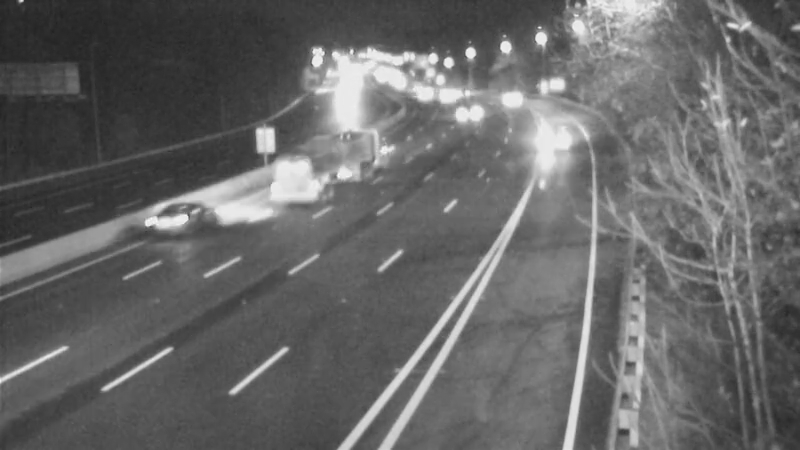vehicle: (258, 140, 338, 220), (134, 180, 214, 260), (478, 74, 528, 124), (420, 71, 470, 121), (440, 93, 490, 143), (522, 118, 572, 168)
